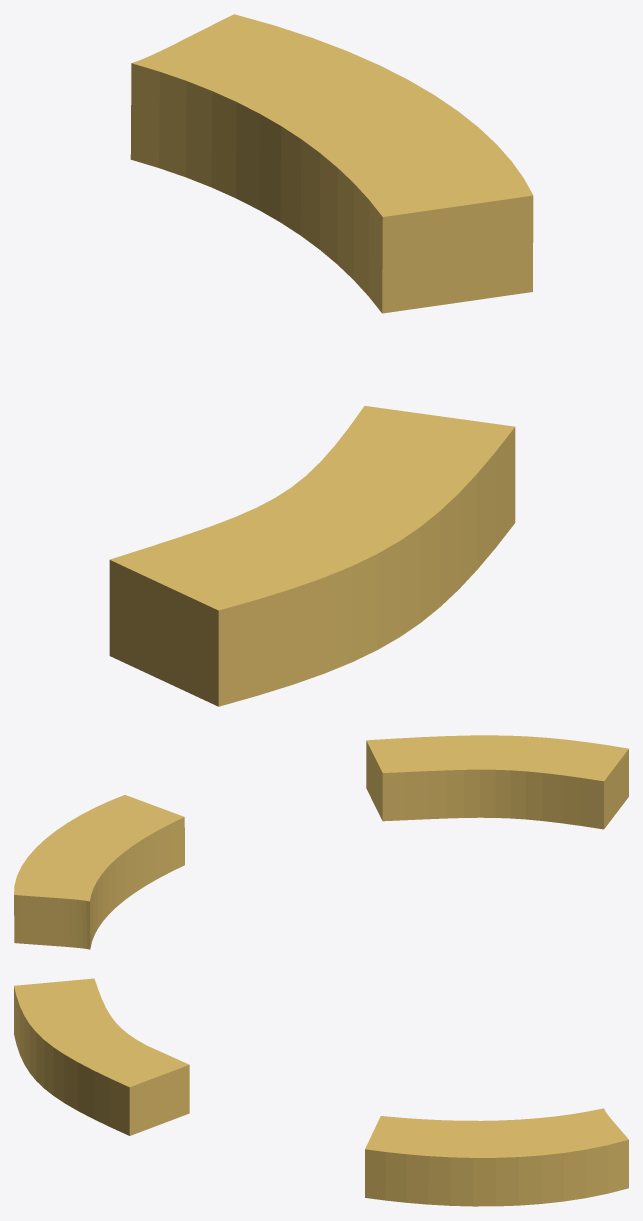
The model's file is 2-platforms1.fbx.
3 renders of one model, top to bottom at view 1: azimuth 30°, elevation 25°; view 2: azimuth 150°, elevation 25°; view 3: azimuth 270°, elevation 25°, orthographic. The views are drawn at different scales.
Visible parts, largest first — view 1: horizontal platform; view 2: horizontal platform; view 3: horizontal platform.
Part boxes in pixels (x1,y1,x2,y2): horizontal platform: (109, 14, 533, 706); horizontal platform: (14, 735, 628, 949); horizontal platform: (14, 978, 628, 1206).
Bounding box in the file's own units: 639 × 85.4 × 930.
